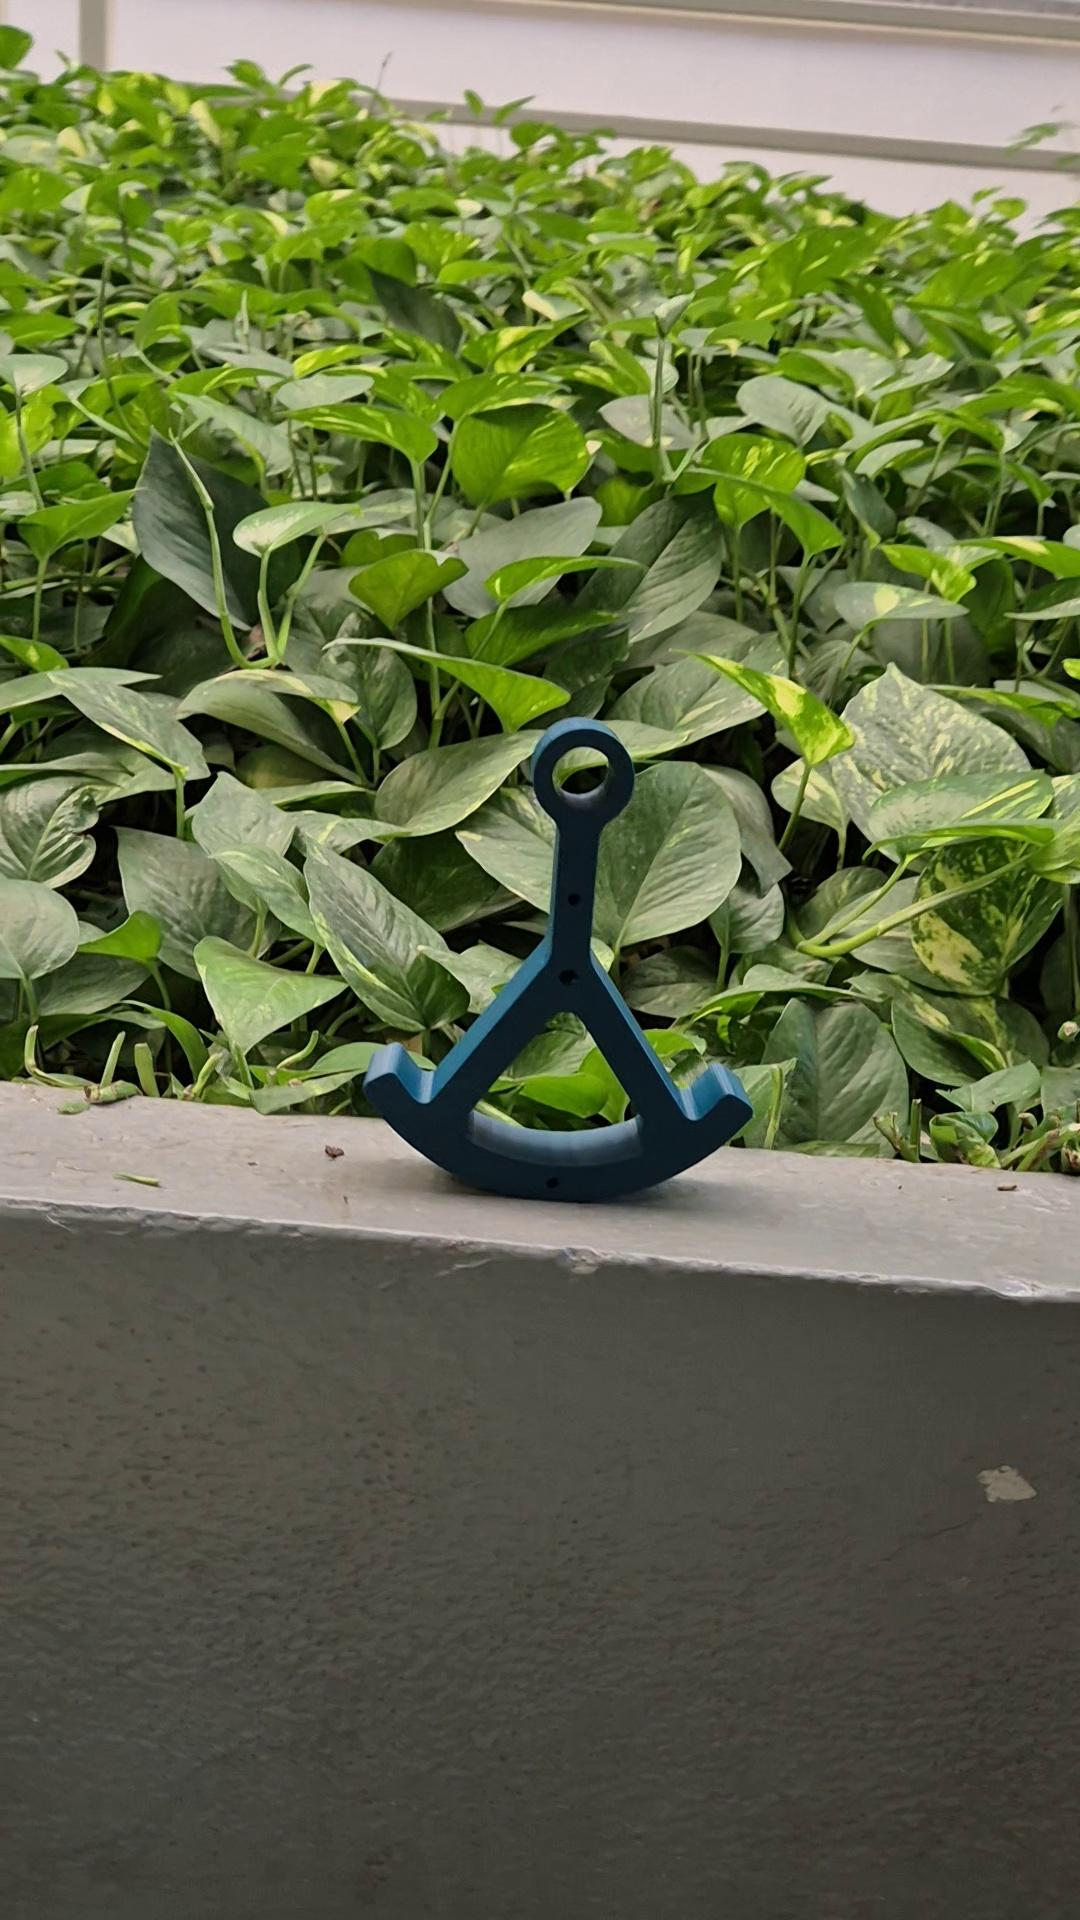Paddles: (359, 715, 758, 1207)
